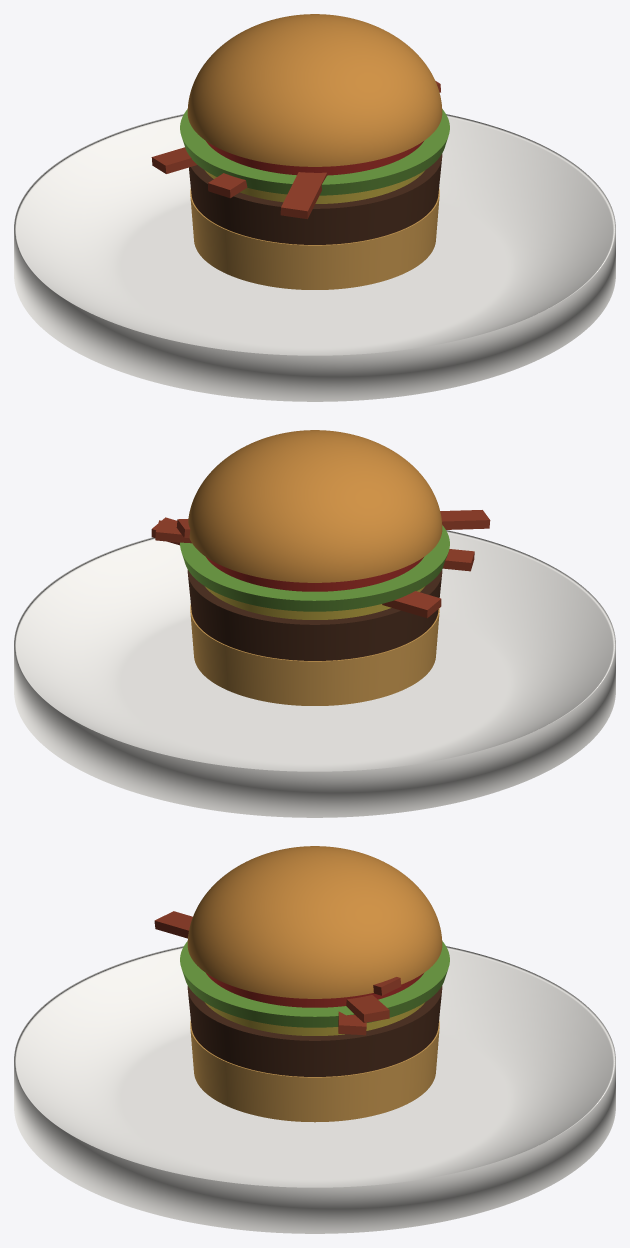
The model's file is burger-bacon-hero.glb.
3 views of the same model, one above another, from view 1: azimuth 30°, elevation 25°; view 2: azimuth 150°, elevation 25°; view 3: azimuth 270°, elevation 25° (orthographic).
Size of the model in its own units: 0.26 by 0.1166 by 0.26.
